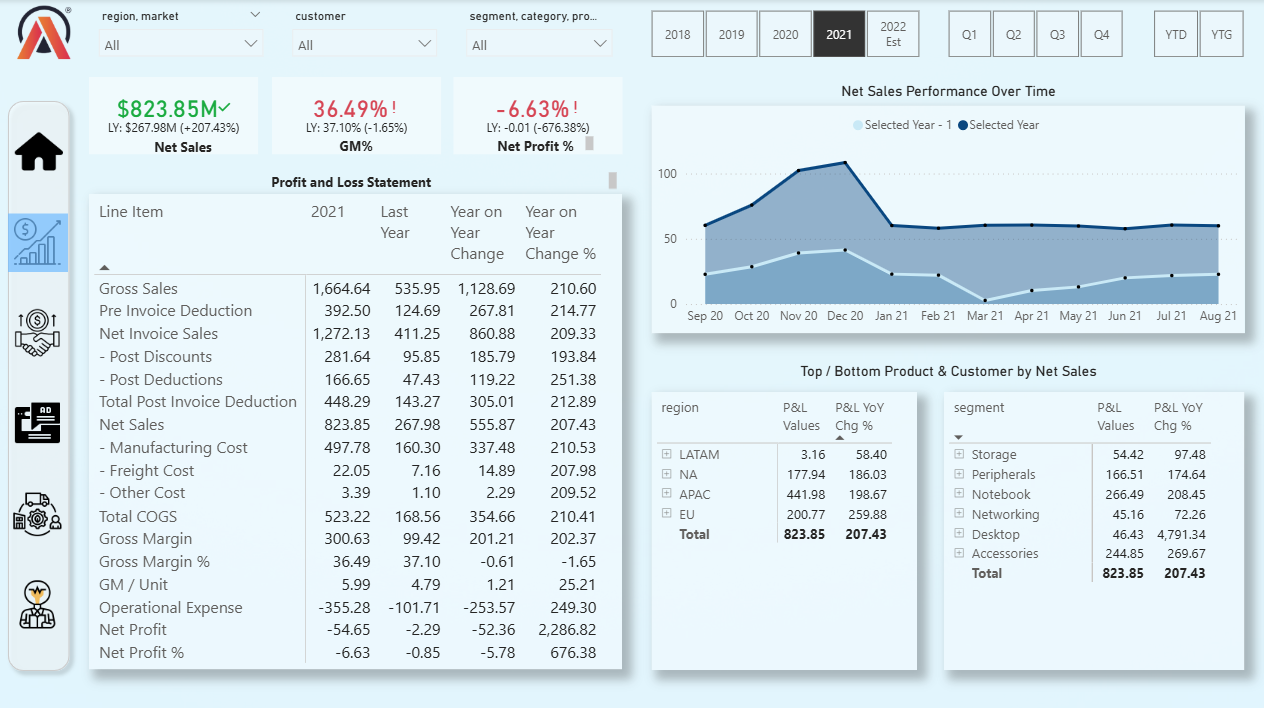

The page's visual inventory and layout, read from the dashboard file:
{"tool":"powerbi","page":{"name":"Finance View","canvas":[1280,720],"ordinal":1},"visuals":[{"type":"pivotTable","fields":{"Rows":["P $ L Rows.Line Item"],"Columns":["P&L Columns.column Header"],"Values":["Key Measures.P&L Final Values"]},"box":[91.4,196.6,537.9,480],"z":0},{"type":"slicer","fields":{"Values":["fiscal_year.Fiscal Year description"]},"box":[632.4,4.6,320,61],"z":1000},{"type":"slicer","fields":{"Values":["dim_date.quarters"]},"box":[933.3,4.6,225.5,61],"z":2000},{"type":"slicer","fields":{"Values":["dim_date.year_till_date_year_to_go"]},"box":[1139.8,4.6,140.2,61],"z":3000},{"type":"areaChart","fields":{"Category":["dim_date.date"],"Y":["Key Measures.P&L Last Year","Key Measures.P&L Values"]},"box":[658.3,108.2,598.9,230.1],"z":4000},{"type":"pivotTable","fields":{"Rows":["dim_market.region","dim_market.market","dim_customer.customer"],"Values":["Key Measures.P&L Values","Key Measures.P&L YoY Chg %"]},"box":[658.3,396.2,268.2,280.4],"z":5000},{"type":"pivotTable","fields":{"Rows":["dim_product.segment","dim_product.category"],"Values":["Key Measures.P&L Values","Key Measures.P&L YoY Chg %"]},"box":[953.9,396.2,303.2,280.4],"z":6000},{"type":"card","fields":{"Values":["Key Measures.Performance Visual Title"]},"box":[658.3,79.2,598.9,29],"z":6001},{"type":"card","fields":{"Values":["Key Measures.Top / Bottom N Title"]},"box":[658.3,359.6,598.9,35],"z":6002},{"type":"textbox","box":[91.4,169.1,537.9,27.4],"z":6003},{"type":"slicer","fields":{"Values":["dim_market.region","dim_market.market"]},"box":[91.4,4.6,185.9,61],"z":6004},{"type":"slicer","fields":{"Values":["dim_product.segment","dim_product.category","dim_product.product"]},"box":[461.7,4.6,167.6,61],"z":6005},{"type":"slicer","fields":{"Values":["dim_customer.customer"]},"box":[286.5,4.6,166.1,61],"z":6006},{"type":"kpi","fields":{"Indicator":["Key Measures.NS $"],"TrendLine":["dim_date.fiscal year"],"Goal":["Key Measures.NS $ LY"]},"box":[91.4,79.2,170.7,77.7],"z":6007},{"type":"textbox","box":[150.9,134.1,68.6,29],"z":6008},{"type":"kpi","fields":{"TrendLine":["dim_date.fiscal year"],"Goal":["Key Measures.Gross Margin % LY"],"Indicator":["Key Measures.Gross margin %"]},"box":[275.8,79.2,170.7,77.7],"z":6010},{"type":"kpi","fields":{"TrendLine":["dim_date.fiscal year"],"Goal":["Key Measures.Net Profit % LY"],"Indicator":["Key Measures.Net Profit %"]},"box":[458.7,79.2,170.7,77.7],"z":6011},{"type":"textbox","box":[323,132.6,76.2,33.5],"z":6012},{"type":"textbox","box":[486.1,132.6,118.9,24.4],"z":6013},{"type":"image","box":[0,0,91.4,65.5],"z":6014},{"type":"shape","box":[0,93.9,80.3,593.6],"z":6015},{"type":"image","box":[9.1,307.1,59.1,59.1],"z":6016},{"type":"image","box":[9.1,398.5,59.1,59.1],"z":6017},{"type":"image","box":[9.1,215.6,59.1,59.1],"z":6018},{"type":"image","box":[10.6,124.2,59.1,59.1],"z":6019},{"type":"image","box":[9.1,490,59.1,59.1],"z":6020},{"type":"image","box":[9.1,581.5,59.1,59.1],"z":6021},{"type":"shape","box":[9.1,216.5,60.6,59.1],"z":6022}]}

Visuals, with their boxes in screenshot pixels (x1, y1, x2, y2), scaled from the page's 1280x720 canvas onto the 1264x708 screenshot:
pivotTable - P $ L Rows.Line Item x P&L Columns.column Header: Rect(90, 193, 621, 665)
slicer - fiscal_year.Fiscal Year description: Rect(624, 5, 940, 65)
slicer - dim_date.quarters: Rect(922, 5, 1144, 65)
slicer - dim_date.year_till_date_year_to_go: Rect(1126, 5, 1263, 65)
areaChart - dim_date.date x Key Measures.P&L Last Year: Rect(650, 106, 1241, 333)
pivotTable - dim_market.region x dim_market.market: Rect(650, 390, 915, 665)
pivotTable - dim_product.segment x dim_product.category: Rect(942, 390, 1241, 665)
card - Key Measures.Performance Visual Title: Rect(650, 78, 1241, 106)
card - Key Measures.Top / Bottom N Title: Rect(650, 354, 1241, 388)
textbox: Rect(90, 166, 621, 193)
slicer - dim_market.region x dim_market.market: Rect(90, 5, 274, 65)
slicer - dim_product.segment x dim_product.category: Rect(456, 5, 621, 65)
slicer - dim_customer.customer: Rect(283, 5, 447, 65)
kpi - Key Measures.NS $ x dim_date.fiscal year: Rect(90, 78, 259, 154)
textbox: Rect(149, 132, 217, 160)
kpi - dim_date.fiscal year x Key Measures.Gross Margin % LY: Rect(272, 78, 441, 154)
kpi - dim_date.fiscal year x Key Measures.Net Profit % LY: Rect(453, 78, 622, 154)
textbox: Rect(319, 130, 394, 163)
textbox: Rect(480, 130, 597, 154)
image: Rect(0, 0, 90, 64)
shape: Rect(0, 92, 79, 676)
image: Rect(9, 302, 67, 360)
image: Rect(9, 392, 67, 450)
image: Rect(9, 212, 67, 270)
image: Rect(10, 122, 69, 180)
image: Rect(9, 482, 67, 540)
image: Rect(9, 572, 67, 630)
shape: Rect(9, 213, 69, 271)
